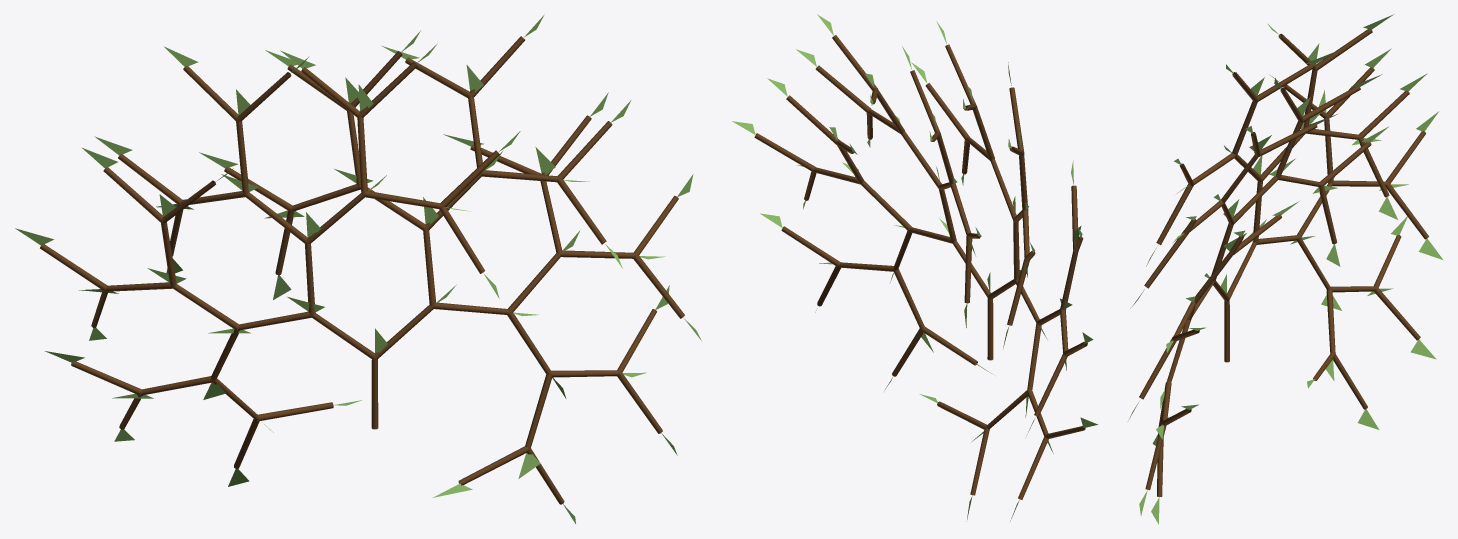
The model's file is plant_seed_42.obj.
3 views of the same model, side by side, from view 1: azimuth 30°, elevation 25°; view 2: azimuth 150°, elevation 25°; view 3: azimuth 270°, elevation 25° (orthographic). The views are drawn at different scales.
Parts seen in each view (by area): view 1: stems, leaves; view 2: stems, leaves; view 3: stems, leaves.
Boxes of the visible parts, box(x1,y1,x2,y2) form: stems: box(40, 36, 684, 504); leaves: box(15, 14, 701, 523); stems: box(754, 35, 1087, 499); leaves: box(732, 14, 1097, 521); stems: box(1139, 29, 1428, 496); leaves: box(1128, 14, 1442, 524).
Bounding box in the file's own units: 8.48 × 7.11 × 4.87.
